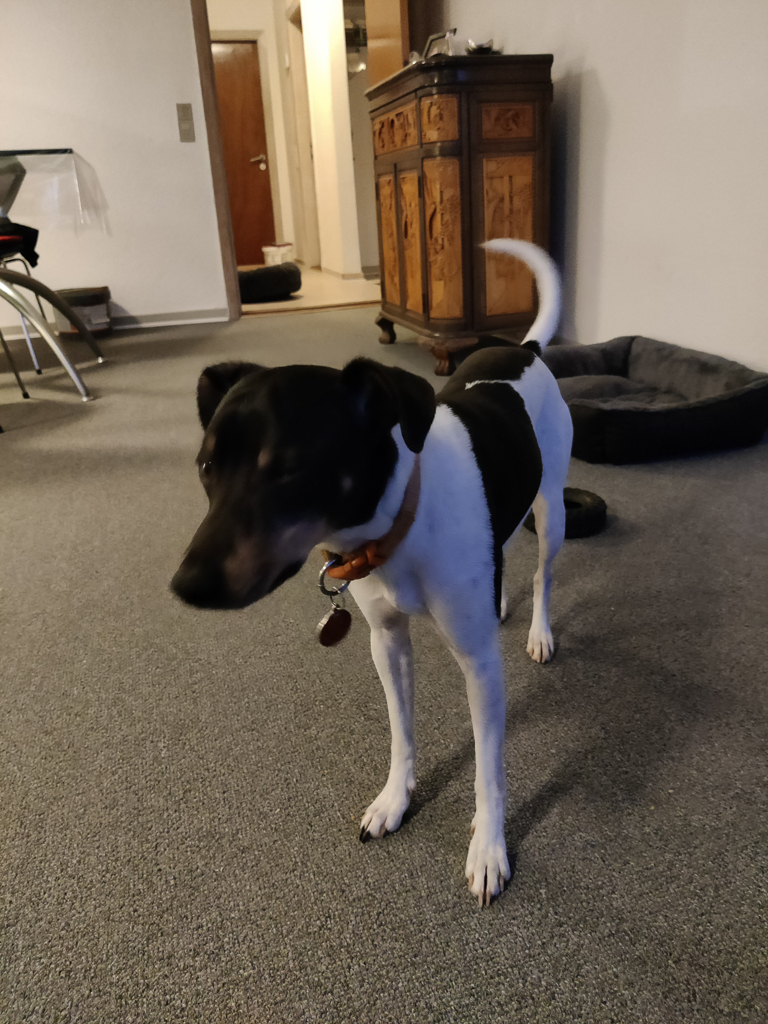Dog: (137, 187, 625, 933)
